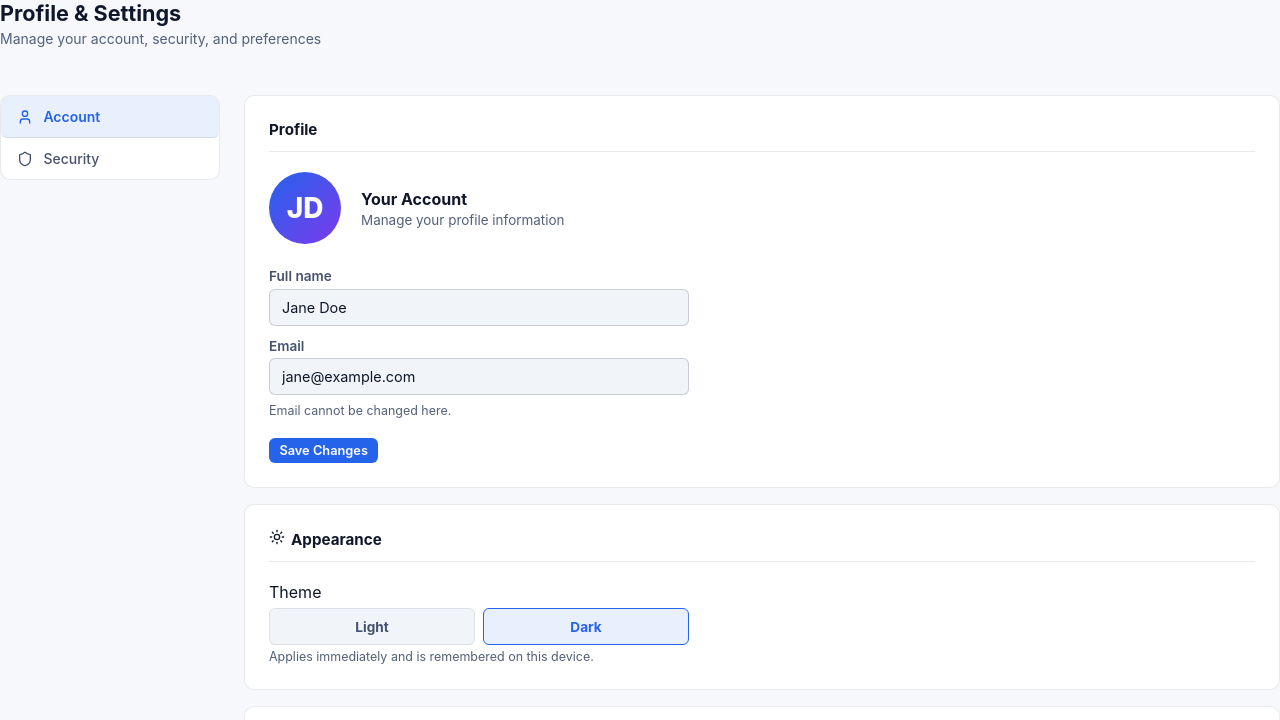
Test case: ProfilePage › Account tab › shows an inline error when the save request fails
This screenshot has width=1280, height=720.
Replace the text in the field labelled "Full name" with "Something" at (479, 307), box [269, 289, 689, 326]
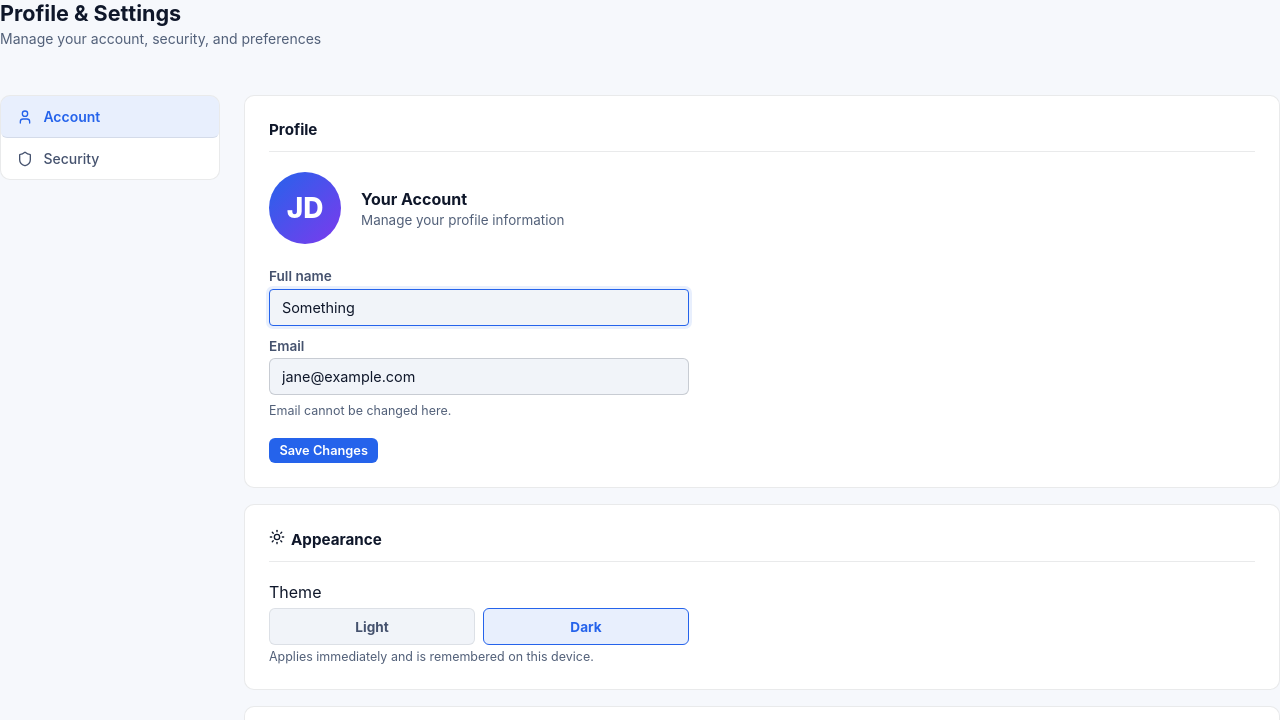
Click the button "Save Changes" at (324, 450), box [269, 438, 378, 462]
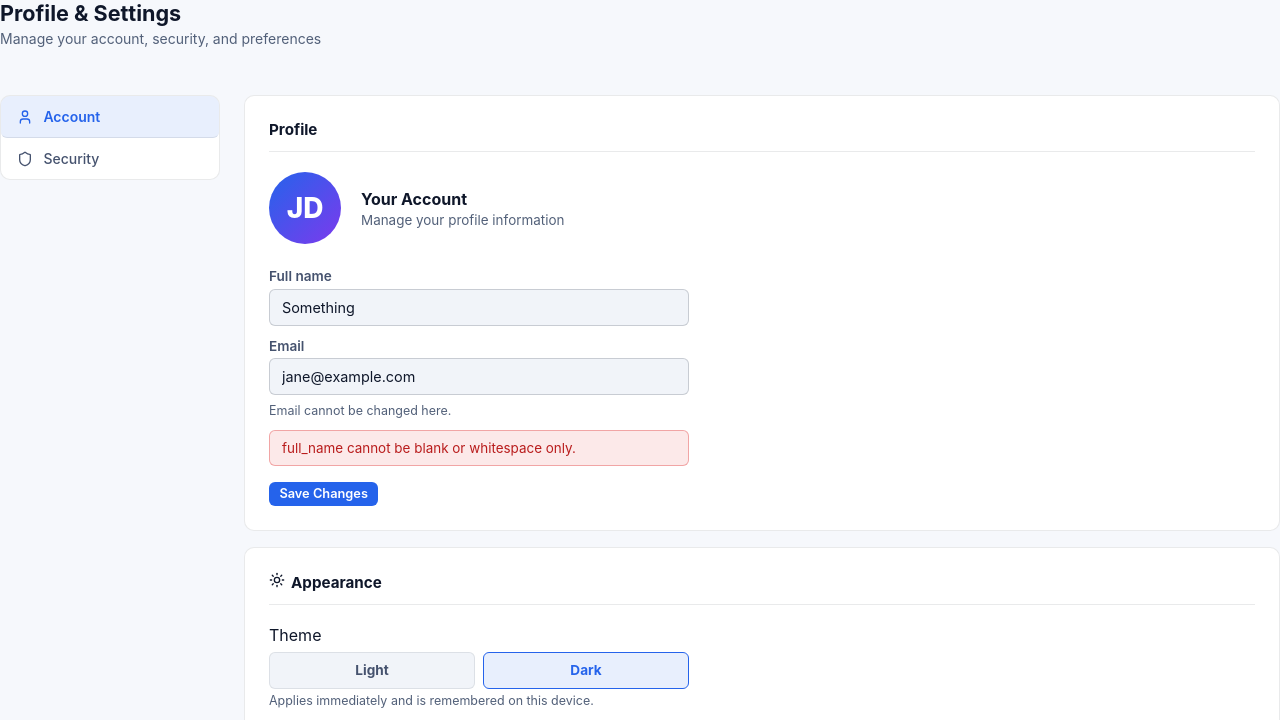
Check: the text "full_name cannot be blank or whitespace only." is shown, box [269, 430, 689, 466]
